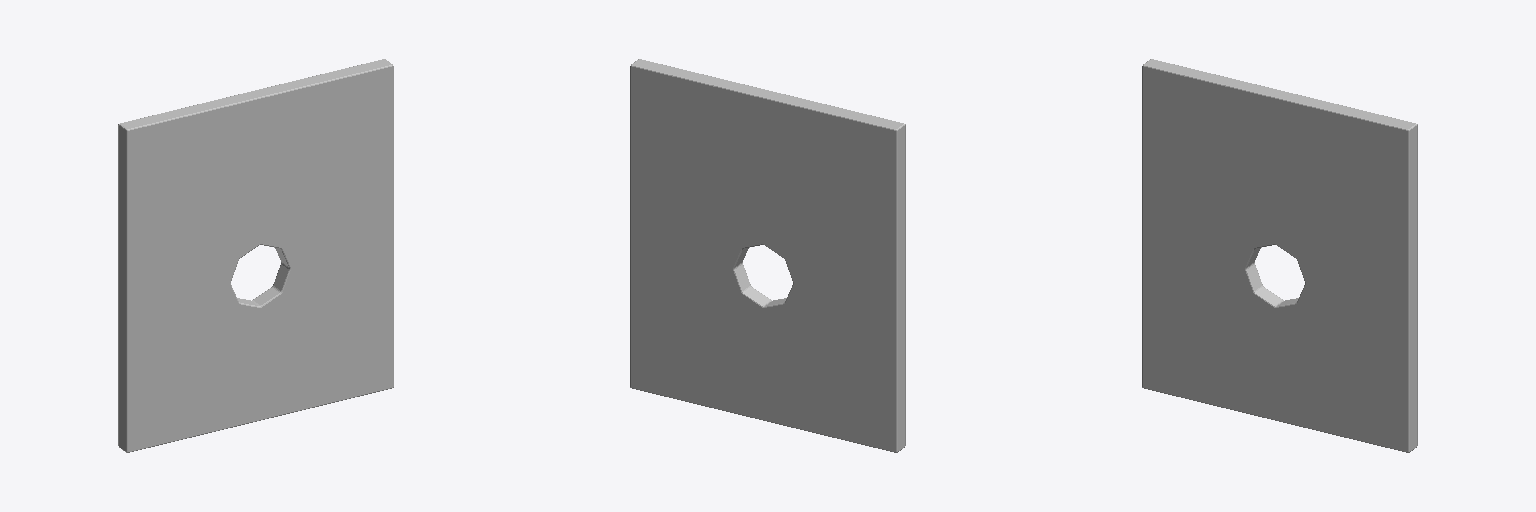
Rendered from microscope2.obj.
3 renders of one model, left to right at view 1: azimuth 30°, elevation 25°; view 2: azimuth 150°, elevation 25°; view 3: azimuth 330°, elevation 25°, orthographic.
Parts seen in each view (by area): view 1: Cube.009; view 2: Cube.009; view 3: Cube.009.
Part boxes in pixels (bbox=[...]): Cube.009: bbox=[118, 59, 393, 452]; Cube.009: bbox=[630, 59, 905, 452]; Cube.009: bbox=[1142, 59, 1417, 452].
Bounding box in the file's own units: 0.4913 × 0.569 × 0.0292.